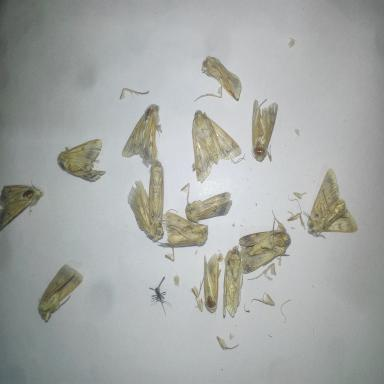abw: (300, 166, 360, 242), (190, 106, 245, 186), (237, 205, 293, 276), (120, 101, 164, 172), (36, 262, 86, 324), (125, 177, 165, 244), (55, 136, 108, 186), (150, 206, 210, 250), (0, 178, 46, 233), (178, 182, 235, 225), (218, 242, 246, 324), (200, 52, 243, 105), (190, 250, 222, 320), (249, 94, 280, 166), (143, 157, 167, 232)
